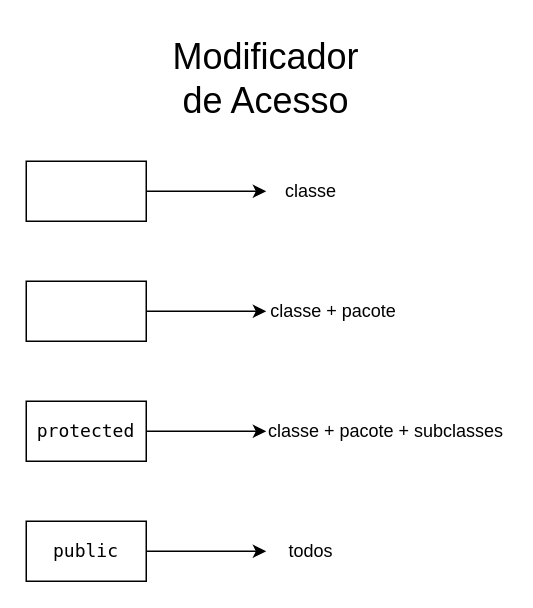
The diagram is 533 pixels wide and 608 high, and some of its shapes have lost their labels. The centre of each missing label's shape, as x and y in pixels:
"default" goes at point (85, 310).
"private" goes at point (85, 190).
